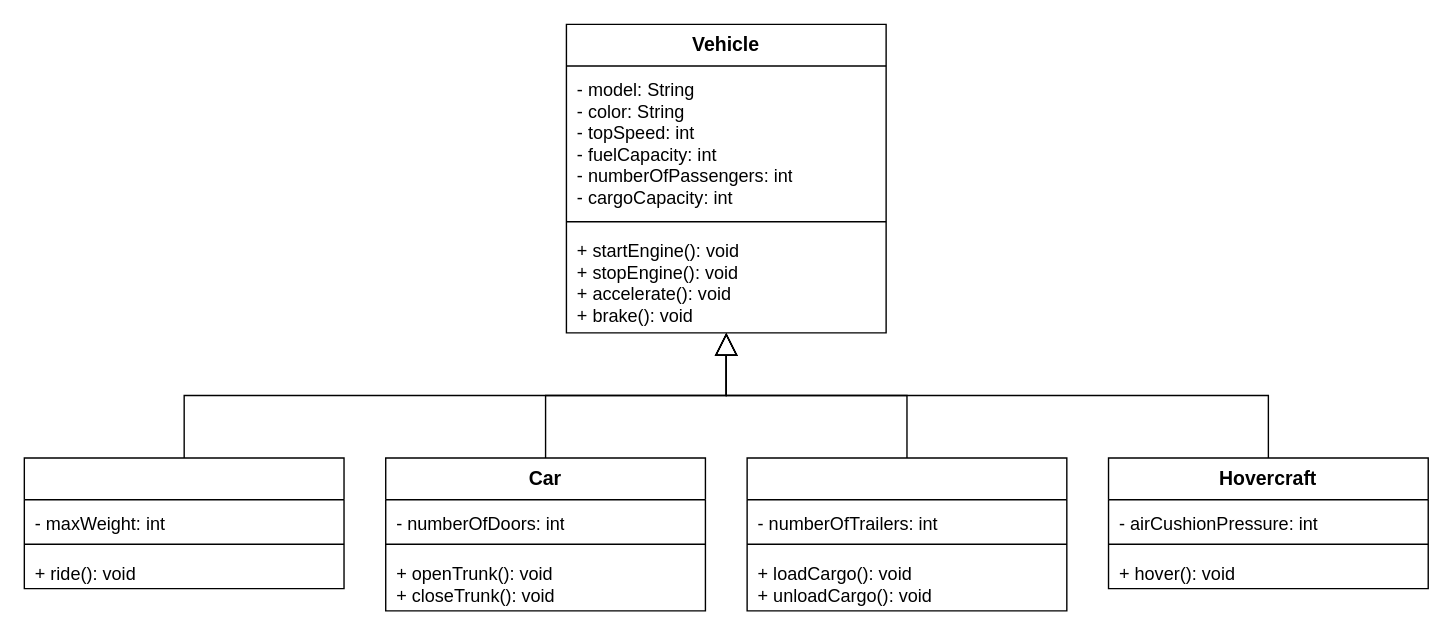
Some shapes in this 1453 by 639 pixel diagram are drawn without their labels. Each missing label, with the box of its shape:
Moped: (23, 457, 344, 589)
SemiTruck: (746, 457, 1067, 611)
